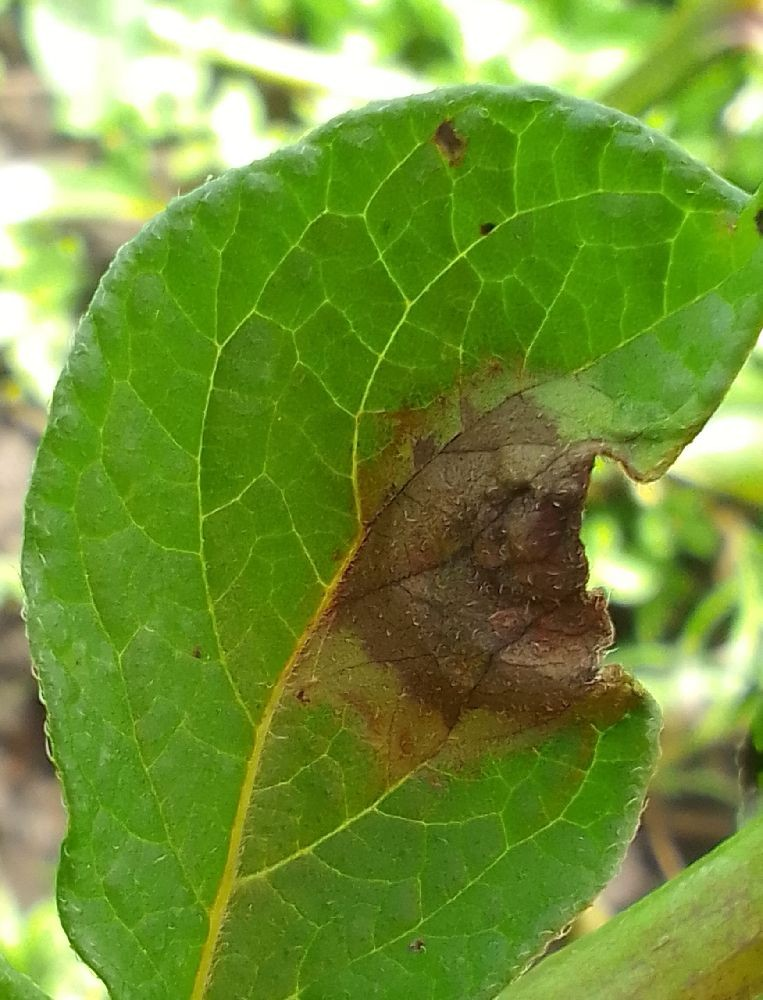late_blight: (243, 371, 675, 806), (570, 681, 763, 945), (0, 567, 100, 941), (677, 926, 763, 1000)
